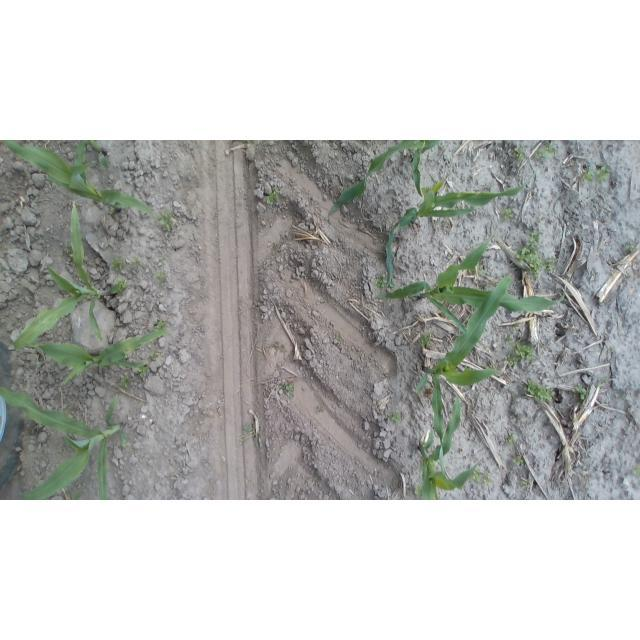Maize: (368, 223, 567, 339), (414, 269, 507, 466), (382, 167, 525, 285), (11, 198, 122, 350), (1, 385, 130, 500), (2, 140, 161, 218), (22, 321, 169, 388), (326, 140, 439, 220), (415, 389, 475, 498), (78, 141, 112, 174), (69, 483, 91, 500)
Weeds: (515, 241, 544, 279), (523, 379, 555, 403), (581, 164, 611, 186), (511, 342, 538, 362), (156, 210, 178, 234), (535, 142, 557, 162), (241, 422, 258, 444), (470, 470, 494, 485), (262, 188, 281, 206), (374, 274, 393, 291), (572, 384, 588, 403), (281, 381, 296, 399), (512, 147, 527, 164), (544, 256, 559, 273), (501, 208, 517, 223), (119, 374, 133, 390), (389, 410, 403, 426), (109, 257, 125, 271), (419, 330, 431, 348), (623, 241, 638, 254), (136, 365, 149, 380), (505, 354, 520, 367), (154, 319, 169, 331), (526, 231, 541, 243), (504, 431, 516, 445), (413, 483, 424, 498), (520, 477, 533, 489), (274, 342, 287, 354), (62, 245, 74, 258), (156, 270, 167, 284), (333, 332, 344, 344), (512, 455, 524, 466), (129, 257, 140, 268), (597, 377, 607, 389), (150, 351, 159, 362), (315, 405, 326, 414), (633, 464, 640, 476), (476, 265, 484, 275), (108, 208, 117, 216), (506, 336, 514, 344), (157, 258, 165, 266), (608, 347, 616, 354), (538, 216, 546, 223), (512, 324, 519, 331), (439, 145, 446, 151)
